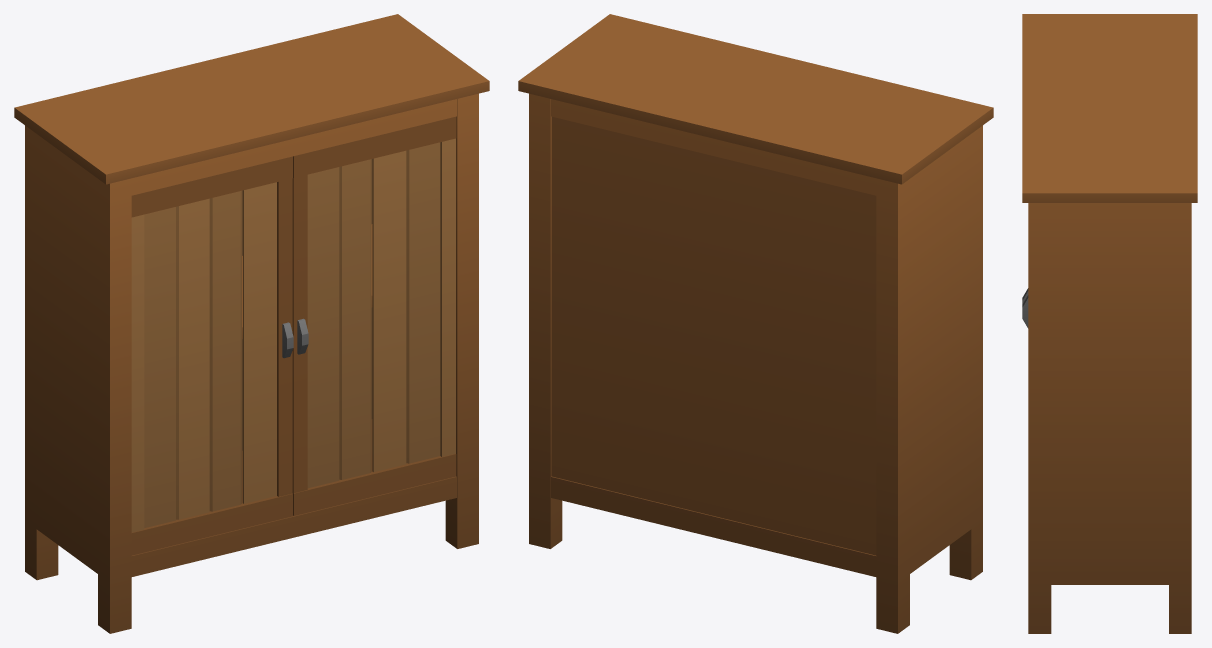
Rendered from Prop_Cupboard_01.obj.
3 views of the same model, side by side, from view 1: azimuth 30°, elevation 25°; view 2: azimuth 150°, elevation 25°; view 3: azimuth 270°, elevation 25° (orthographic). The views are drawn at different scales.
Visible parts, largest first — view 1: Prop_Cupboard_01, Prop_Cupboard_Right_01, Prop_Cupboard_Left_01; view 2: Prop_Cupboard_01; view 3: Prop_Cupboard_01.
Boxes of the visible parts, box(x1,y1,x2,y2) form: Prop_Cupboard_01: box(14, 14, 489, 633); Prop_Cupboard_Right_01: box(292, 116, 456, 515); Prop_Cupboard_Left_01: box(131, 156, 293, 555); Prop_Cupboard_01: box(518, 14, 993, 633); Prop_Cupboard_01: box(1022, 14, 1197, 633).
Size of the model in its own units: 0.7921 by 0.9144 by 0.3277.
1 material, 1 textured.
